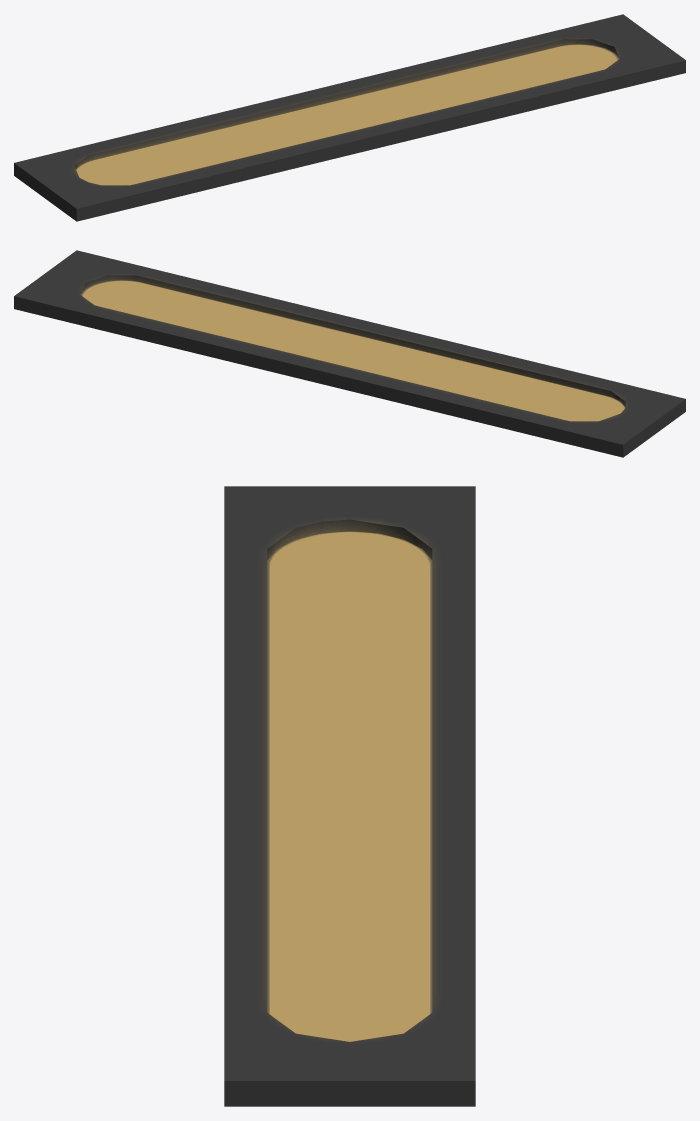
Rendered from light_strip_warm.obj.
The picture shows the model from 3 angles, top to bottom: view 1: azimuth 30°, elevation 25°; view 2: azimuth 150°, elevation 25°; view 3: azimuth 270°, elevation 25°; orthographic projection. The views are drawn at different scales.
Visible parts, largest first — view 1: light_strip; view 2: light_strip; view 3: light_strip.
Part boxes in pixels (bbox=[...]): light_strip: bbox=[14, 14, 685, 221]; light_strip: bbox=[14, 250, 685, 457]; light_strip: bbox=[224, 486, 475, 1106].
Bounding box in the file's own units: 0.9528 × 0.0192 × 0.17.
Materials: 1 (1 with a texture image).
